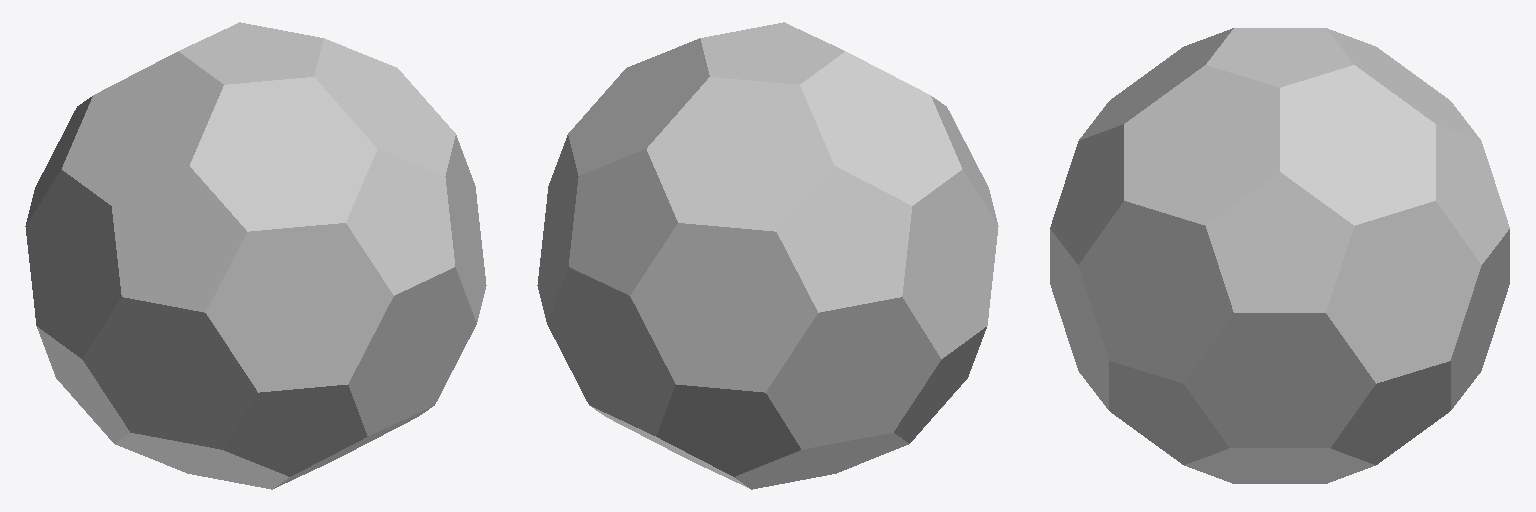
The model's file is soccerball.obj.
3 renders of one model, left to right at view 1: azimuth 30°, elevation 25°; view 2: azimuth 150°, elevation 25°; view 3: azimuth 270°, elevation 25°, orthographic.
Visible parts, largest first — view 1: Icosphere.001; view 2: Icosphere.001; view 3: Icosphere.001.
Part boxes in pixels (x1,y1,x2,y2): Icosphere.001: (25, 22, 486, 489); Icosphere.001: (537, 22, 998, 489); Icosphere.001: (1050, 28, 1509, 483).
Size of the model in its own units: 1.68 by 1.64 by 1.7.